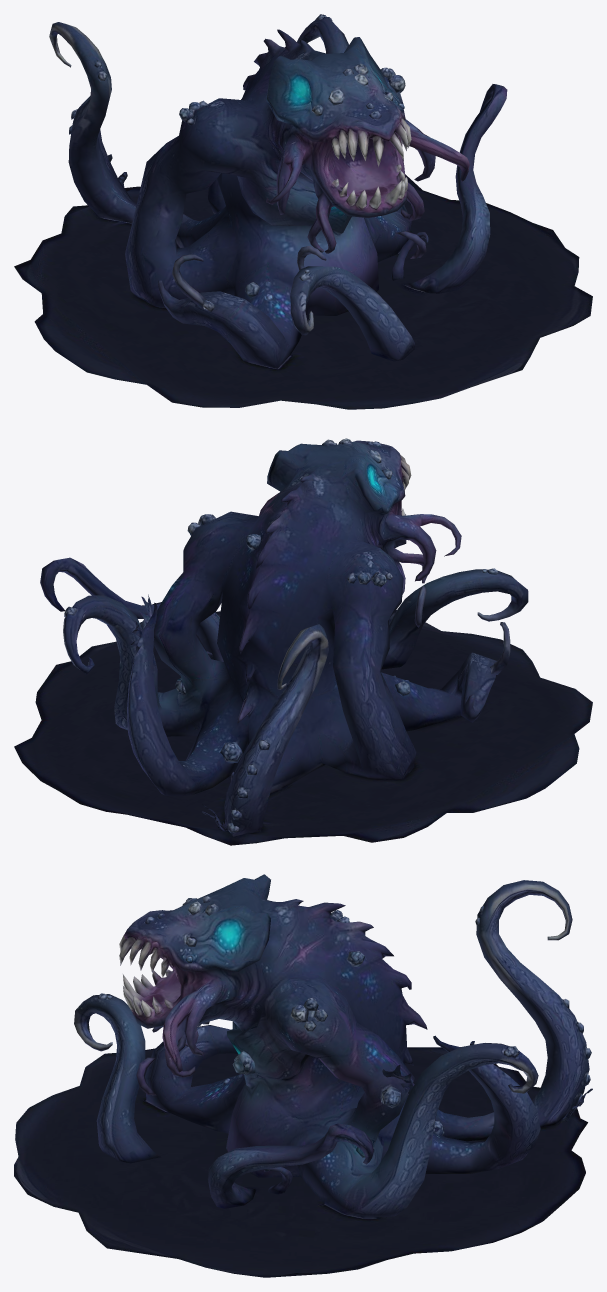
The model's file is maw.glb.
3 views of the same model, one above another, from view 1: azimuth 30°, elevation 25°; view 2: azimuth 150°, elevation 25°; view 3: azimuth 270°, elevation 25° (orthographic).
Visible parts, largest first — view 1: tripo_node_6f7f52b4-fb6d-4e47-85b8-3cbadf228b63; view 2: tripo_node_6f7f52b4-fb6d-4e47-85b8-3cbadf228b63; view 3: tripo_node_6f7f52b4-fb6d-4e47-85b8-3cbadf228b63.
Part boxes in pixels (<box>): tripo_node_6f7f52b4-fb6d-4e47-85b8-3cbadf228b63: <box>14,14,592,409</box>; tripo_node_6f7f52b4-fb6d-4e47-85b8-3cbadf228b63: <box>14,438,592,845</box>; tripo_node_6f7f52b4-fb6d-4e47-85b8-3cbadf228b63: <box>14,874,592,1277</box>.
Size of the model in its own units: 0.998 by 0.5098 by 0.998.
1 material, 1 textured.
